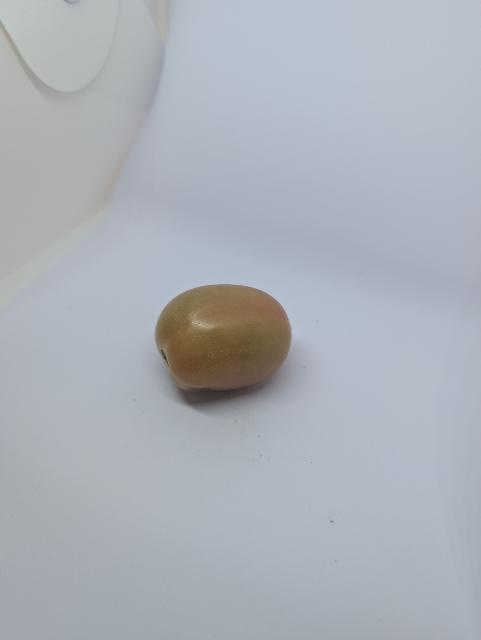turning: (150, 278, 297, 405)
